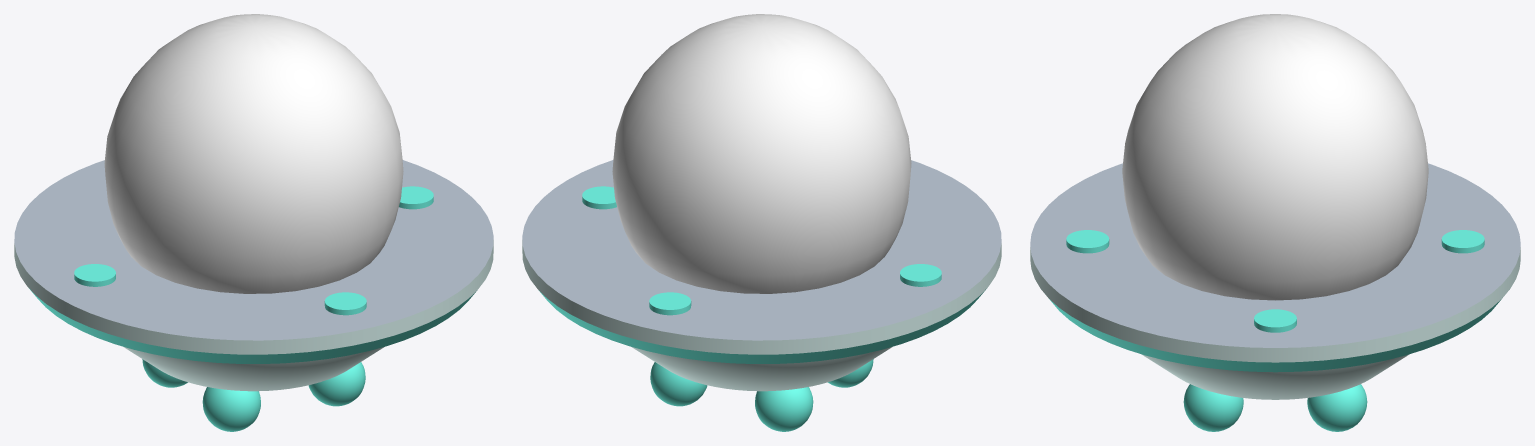
File: ufo-shifted.glb
3 renders of one model, left to right at view 1: azimuth 30°, elevation 25°; view 2: azimuth 150°, elevation 25°; view 3: azimuth 270°, elevation 25°, orthographic. The views are drawn at different scales.
Visible parts, largest first — view 1: Sphere.008, Circle.001, Roundcube.028, Circle.024, Roundcube.001, Circle.002, Roundcube.030; view 2: Sphere.008, Circle.001, Roundcube.030, Circle.024, Roundcube.029, Circle.002, Roundcube.028; view 3: Sphere.008, Circle.001, Roundcube.001, Roundcube.029, Circle.002, Circle.024.
Boxes of the visible parts, x1=… form: Sphere.008: x1=104, y1=14, x2=403, y2=293; Circle.001: x1=14, y1=160, x2=493, y2=391; Roundcube.028: x1=202, y1=387, x2=260, y2=431; Circle.024: x1=74, y1=186, x2=433, y2=286; Roundcube.001: x1=308, y1=362, x2=365, y2=406; Circle.002: x1=324, y1=292, x2=366, y2=315; Roundcube.030: x1=142, y1=359, x2=187, y2=387; Sphere.008: x1=612, y1=14, x2=911, y2=293; Circle.001: x1=522, y1=160, x2=1001, y2=391; Roundcube.030: x1=755, y1=387, x2=813, y2=431; Circle.024: x1=582, y1=186, x2=941, y2=286; Roundcube.029: x1=650, y1=362, x2=707, y2=406; Circle.002: x1=649, y1=292, x2=691, y2=315; Roundcube.028: x1=828, y1=359, x2=873, y2=387; Sphere.008: x1=1122, y1=14, x2=1428, y2=300; Circle.001: x1=1030, y1=163, x2=1520, y2=399; Roundcube.001: x1=1183, y1=384, x2=1243, y2=431; Roundcube.029: x1=1307, y1=384, x2=1367, y2=431; Circle.002: x1=1066, y1=230, x2=1484, y2=253; Circle.024: x1=1254, y1=309, x2=1296, y2=332.
Size of the model in its own units: 3.57 by 3.02 by 3.57.
